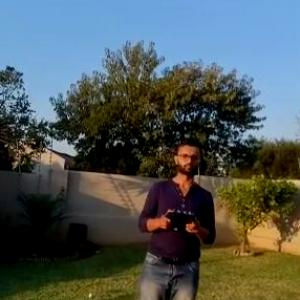follow: (132, 126, 222, 299)
